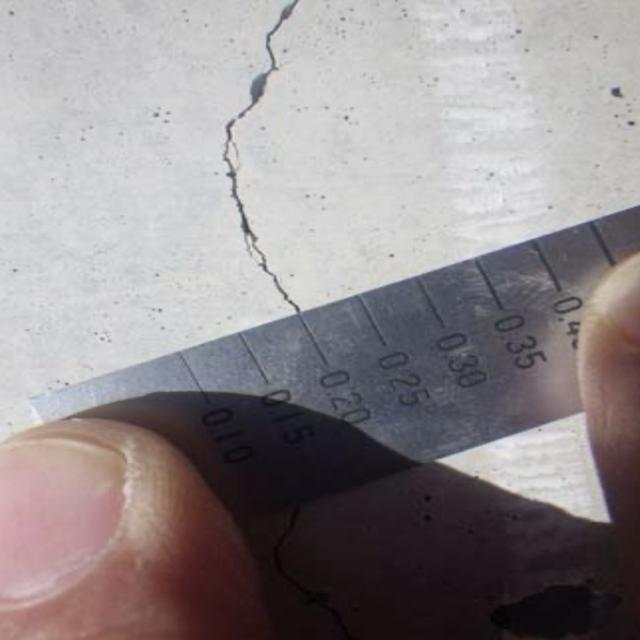crack: (217, 0, 311, 321)
